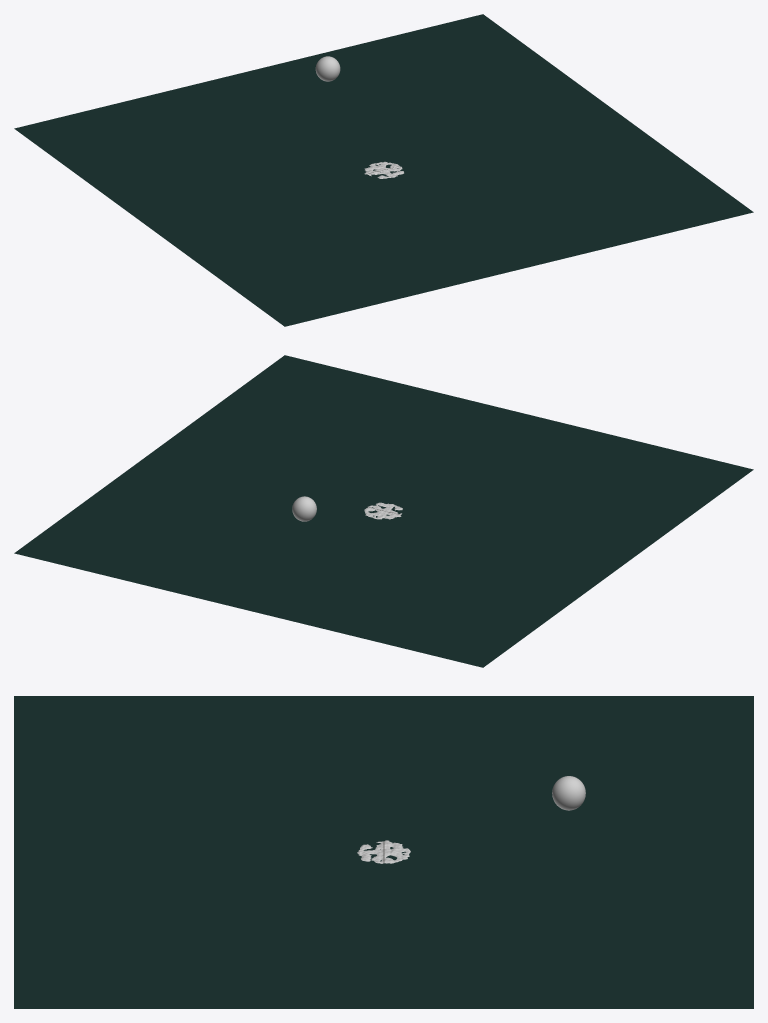
File: windowsxpmap.gltf
3 renders of one model, top to bottom at view 1: azimuth 30°, elevation 25°; view 2: azimuth 150°, elevation 25°; view 3: azimuth 270°, elevation 25°, orthographic. The views are drawn at different scales.
Visible parts, largest first — view 1: Water; view 2: Water; view 3: Water, Sun, Terrain_RigidBody.
Part boxes in pixels (left/top/right/bottom): Water: left=14, top=14, right=753, bottom=326; Water: left=14, top=355, right=753, bottom=667; Water: left=14, top=696, right=753, bottom=1008; Sun: left=552, top=776, right=585, bottom=810; Terrain_RigidBody: left=357, top=840, right=410, bottom=863.
Size of the model in its own units: 10000 by 2364 by 10000.
